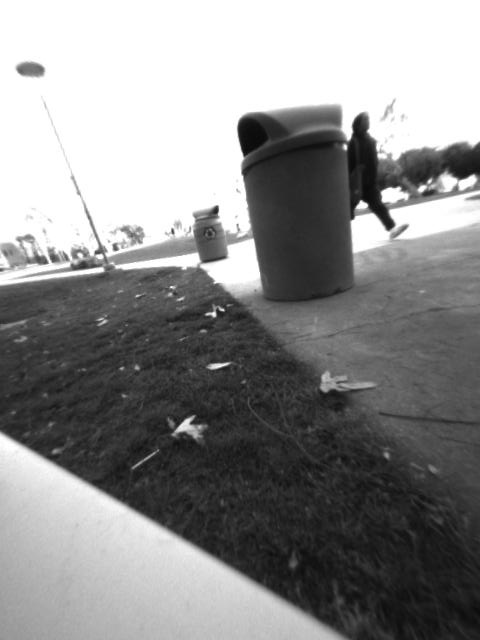trashcan: (229, 107, 360, 300)
